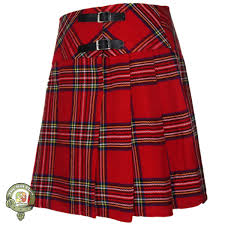C_skirt: (21, 3, 211, 224)
